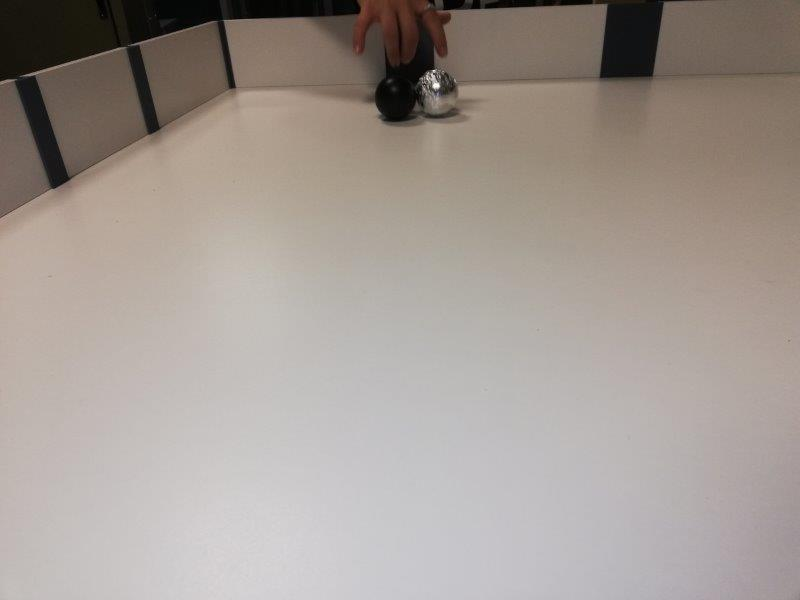bianca: (416, 68, 459, 119)
nera: (375, 76, 414, 122)
